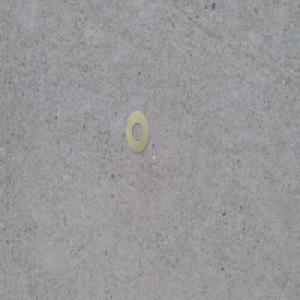Washer: (124, 109, 148, 155)
